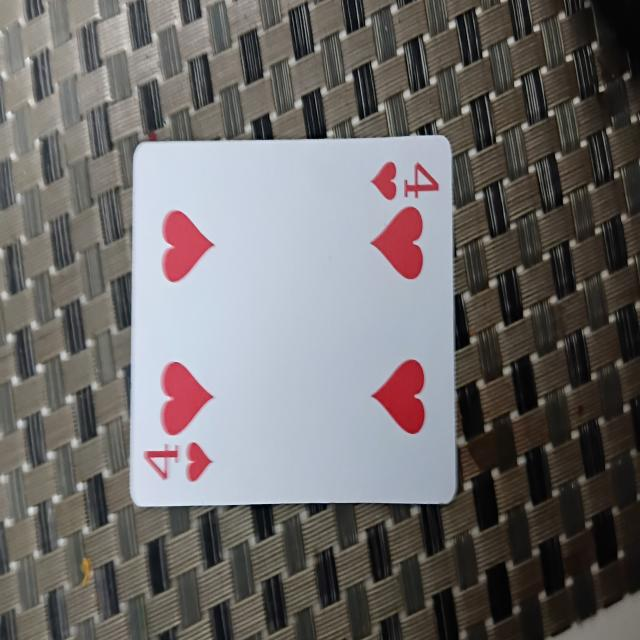4H: (128, 134, 458, 512)
